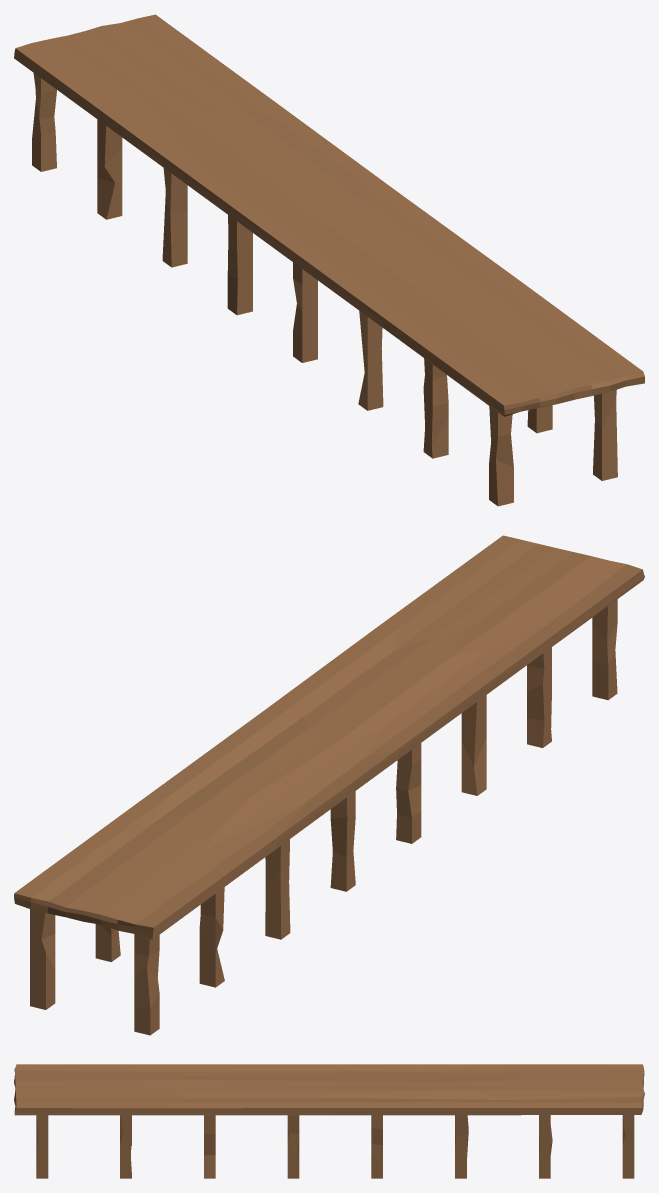
The model's file is Footbridge_1.fbx.
The picture shows the model from 3 angles, top to bottom: view 1: azimuth 30°, elevation 25°; view 2: azimuth 150°, elevation 25°; view 3: azimuth 270°, elevation 25°; orthographic projection. The views are drawn at different scales.
Visible parts, largest first — view 1: Footbridge_mesh; view 2: Footbridge_mesh; view 3: Footbridge_mesh.
Boxes of the visible parts, x1=… form: Footbridge_mesh: x1=14, y1=14, x2=644, y2=506; Footbridge_mesh: x1=14, y1=535, x2=644, y2=1035; Footbridge_mesh: x1=14, y1=1064, x2=644, y2=1178.
Size of the model in its own units: 211 by 168 by 1280.
